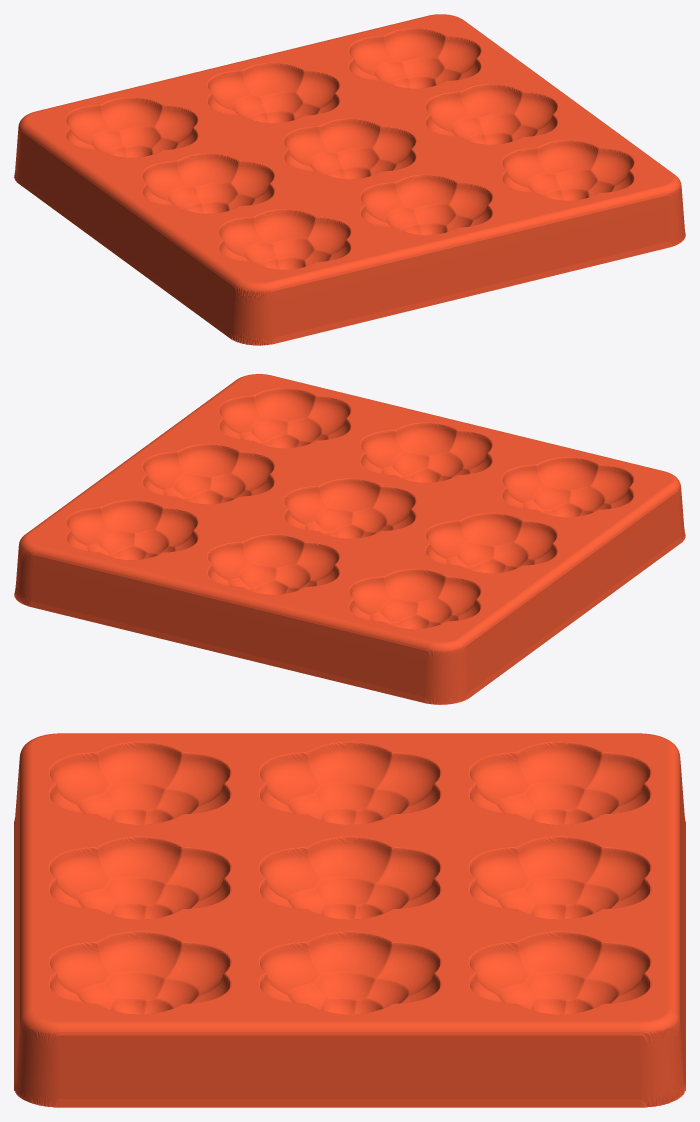
Rendered from mold.glb.
The picture shows the model from 3 angles, top to bottom: view 1: azimuth 30°, elevation 25°; view 2: azimuth 150°, elevation 25°; view 3: azimuth 270°, elevation 25°; orthographic projection. The views are drawn at different scales.
Visible parts, largest first — view 1: geometry_0; view 2: geometry_0; view 3: geometry_0.
Part boxes in pixels (x1,y1,x2,y2): geometry_0: (14,14,685,345); geometry_0: (14,374,685,704); geometry_0: (14,733,685,1107).
Size of the model in its own units: 0.1409 by 0.0171 by 0.1324.
